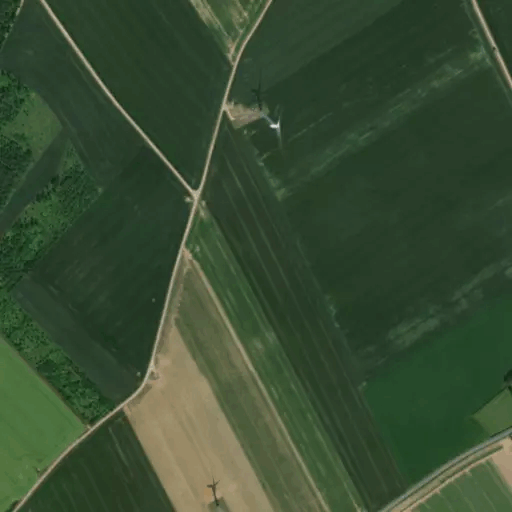wt: (244, 69, 295, 153)
